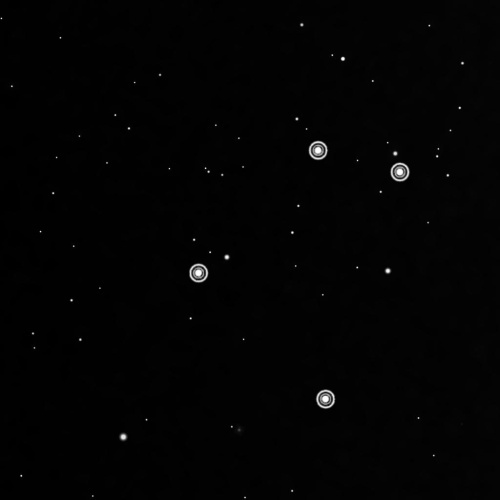coma_berenices: (181, 133, 418, 420)
